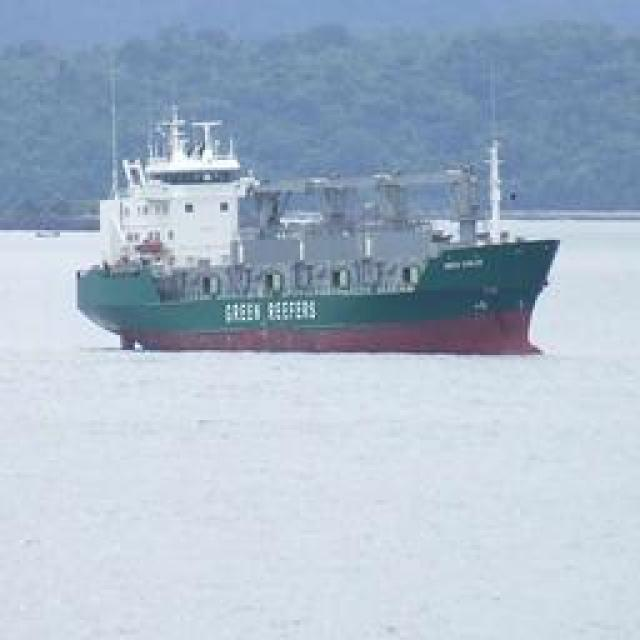ship2: (76, 120, 562, 359)
